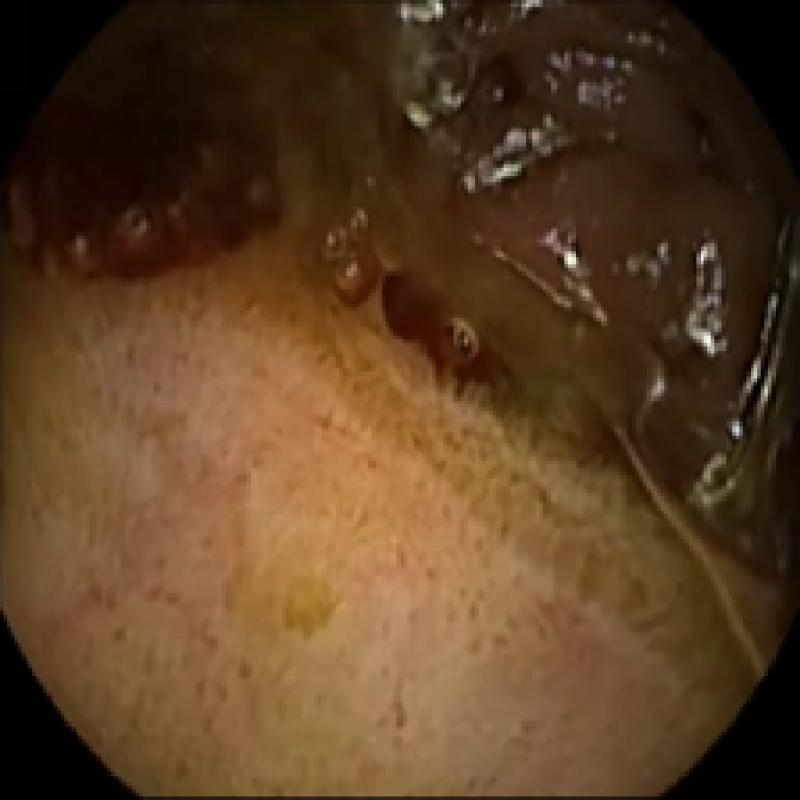bleeding: (0, 47, 286, 304), (383, 268, 524, 399), (482, 50, 534, 112)
